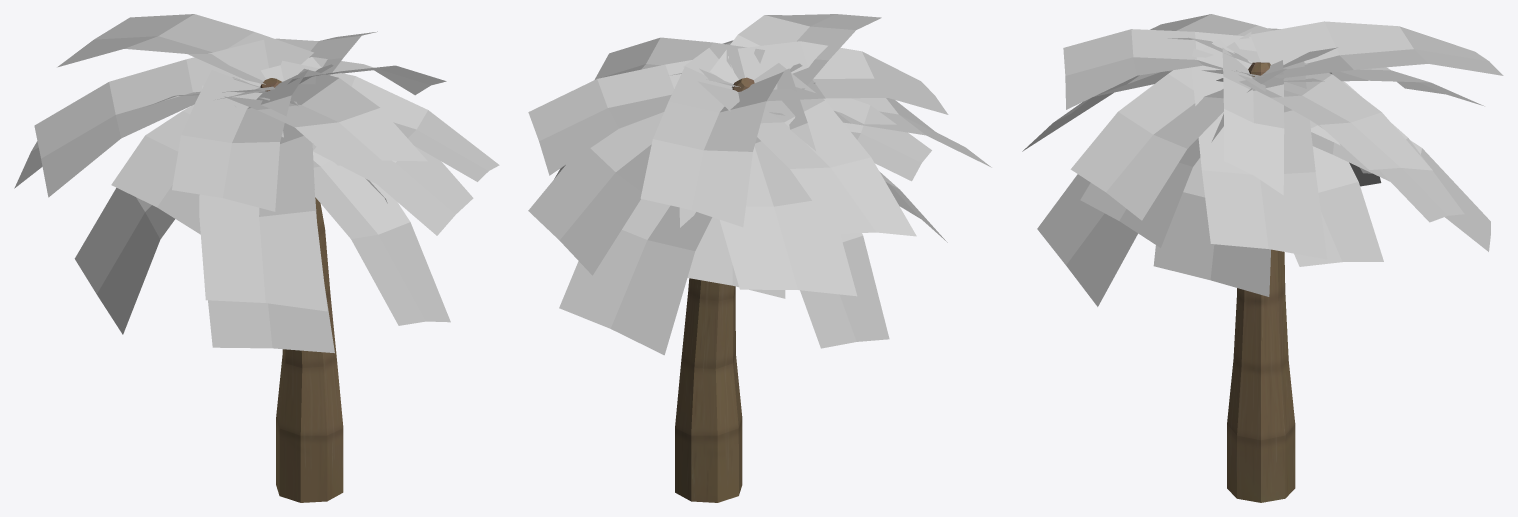
Rendered from palm.fbx.
3 renders of one model, left to right at view 1: azimuth 30°, elevation 25°; view 2: azimuth 150°, elevation 25°; view 3: azimuth 270°, elevation 25°, orthographic. The views are drawn at different scales.
Parts seen in each view (by area): view 1: Plane.010, Plane.017, Plane.018, Trunk.001, Plane.008, Plane.021, Plane, Plane.019, Plane.002, Plane.003, Plane.013, Plane.001 (+3 smaller); view 2: Trunk.001, Plane.019, Plane.011, Plane.004, Plane.017, Plane.014, Plane.022, Plane.018, Plane, Plane.021, Plane.001, Plane.016 (+3 smaller); view 3: Trunk.001, Plane.009, Plane.013, Plane.019, Plane.021, Plane.022, Plane.006, Plane.016, Plane.008, Plane.005, Plane.003, Plane.014 (+5 smaller).
Boxes of the visible parts, bbox=[...] form: Plane.010: bbox=[199, 75, 327, 311]; Plane.017: bbox=[34, 39, 274, 197]; Plane.018: bbox=[172, 69, 308, 211]; Trunk.001: bbox=[260, 78, 343, 502]; Plane.008: bbox=[234, 105, 450, 325]; Plane.021: bbox=[224, 68, 427, 165]; Plane: bbox=[74, 187, 174, 334]; Plane.019: bbox=[57, 14, 313, 84]; Plane.002: bbox=[208, 184, 334, 353]; Plane.003: bbox=[281, 131, 473, 235]; Plane.013: bbox=[259, 60, 499, 181]; Plane.001: bbox=[111, 104, 200, 234]; Trunk.001: bbox=[675, 77, 754, 502]; Plane.019: bbox=[640, 66, 783, 227]; Plane.011: bbox=[676, 68, 857, 296]; Plane.004: bbox=[559, 199, 712, 355]; Plane.017: bbox=[698, 63, 916, 236]; Plane.014: bbox=[528, 48, 731, 275]; Plane.022: bbox=[528, 60, 704, 175]; Plane.018: bbox=[738, 41, 948, 114]; Plane: bbox=[800, 233, 889, 348]; Plane.021: bbox=[710, 14, 881, 90]; Plane.001: bbox=[823, 98, 931, 181]; Plane.016: bbox=[594, 37, 764, 87]; Trunk.001: bbox=[1227, 62, 1295, 502]; Plane.009: bbox=[1191, 61, 1327, 259]; Plane.013: bbox=[1070, 38, 1286, 220]; Plane.019: bbox=[1250, 21, 1503, 78]; Plane.021: bbox=[1063, 29, 1264, 109]; Plane.022: bbox=[1239, 62, 1432, 170]; Plane.006: bbox=[1153, 48, 1290, 296]; Plane.016: bbox=[1222, 47, 1284, 195]; Plane.008: bbox=[1037, 174, 1137, 306]; Plane.005: bbox=[1294, 120, 1383, 266]; Plane.003: bbox=[1080, 113, 1223, 247]; Plane.014: bbox=[1238, 74, 1464, 222].
Size of the model in its own units: 1225 by 1361 by 1402.
